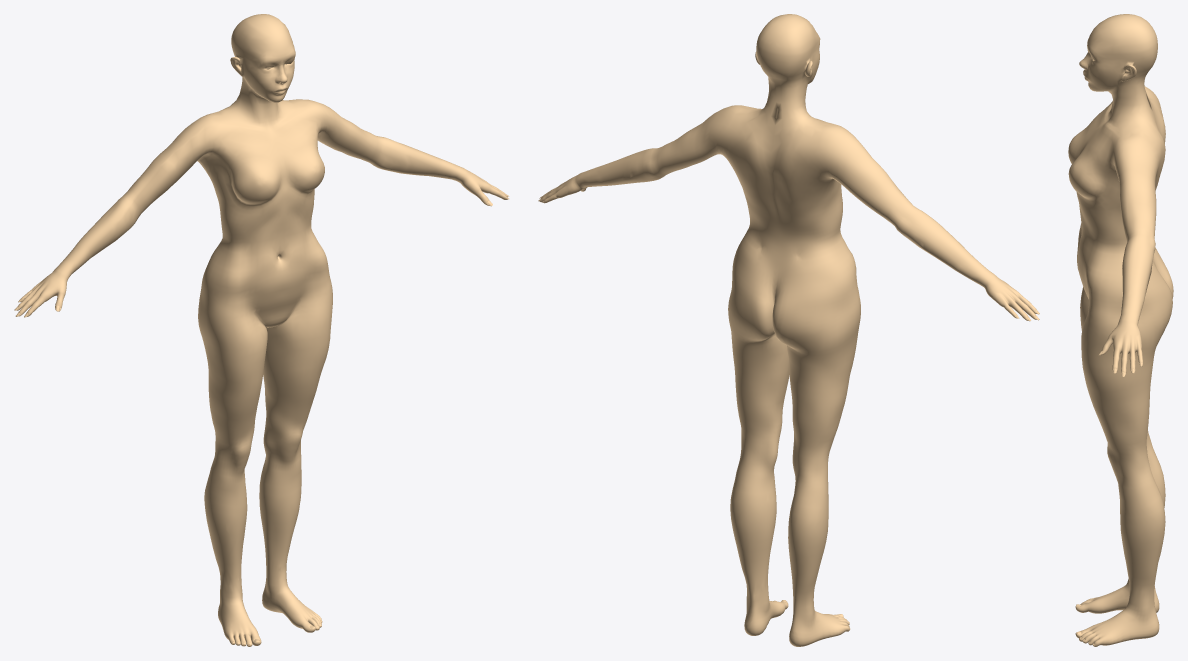
File: female_S_1.glb
3 views of the same model, side by side, from view 1: azimuth 30°, elevation 25°; view 2: azimuth 150°, elevation 25°; view 3: azimuth 270°, elevation 25° (orthographic).
Visible parts, largest first — view 1: Body; view 2: Body; view 3: Body.
Part boxes in pixels (x1,y1,x2,y2): Body: (17, 14, 508, 646); Body: (539, 14, 1037, 646); Body: (1068, 14, 1173, 646).
Size of the model in its own units: 1.58 by 1.85 by 0.2894.
